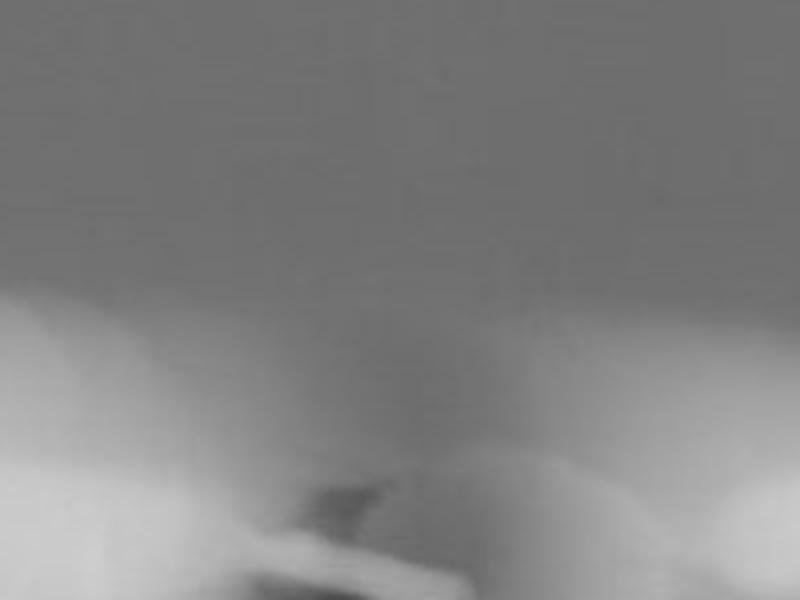defect: (303, 477, 382, 542)
